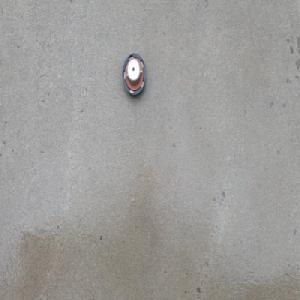FuelCap: (121, 52, 146, 97)
